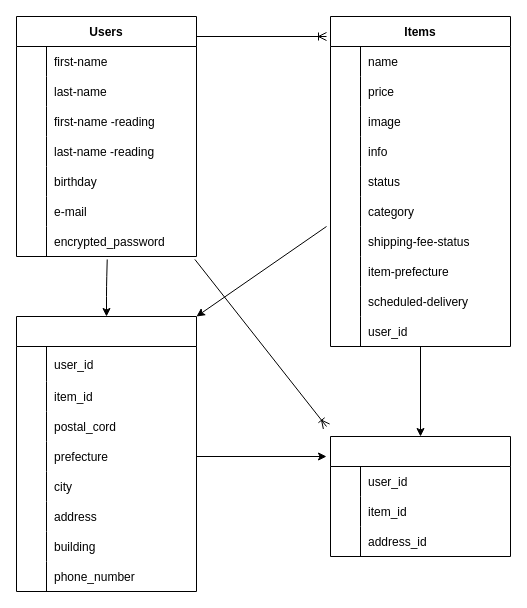
Image size: 527x608. Some labels were removed from this diagram. Here are the shapes that lost their labels. From the top down, the box of each, then its label:
(16, 316, 196, 592): Addresses
(330, 436, 510, 556): Orders
